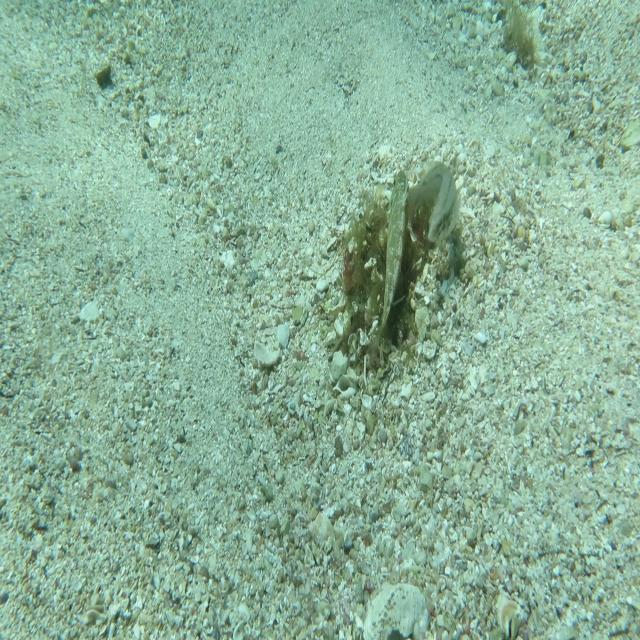ROLL: (365, 166, 411, 366)
female: (405, 153, 461, 250)
nest: (340, 156, 477, 388)
